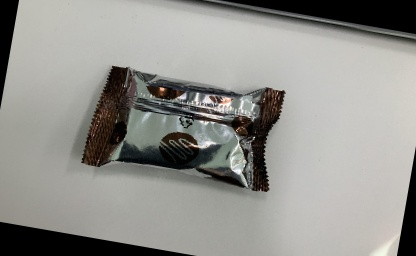mon: (78, 53, 291, 201)
